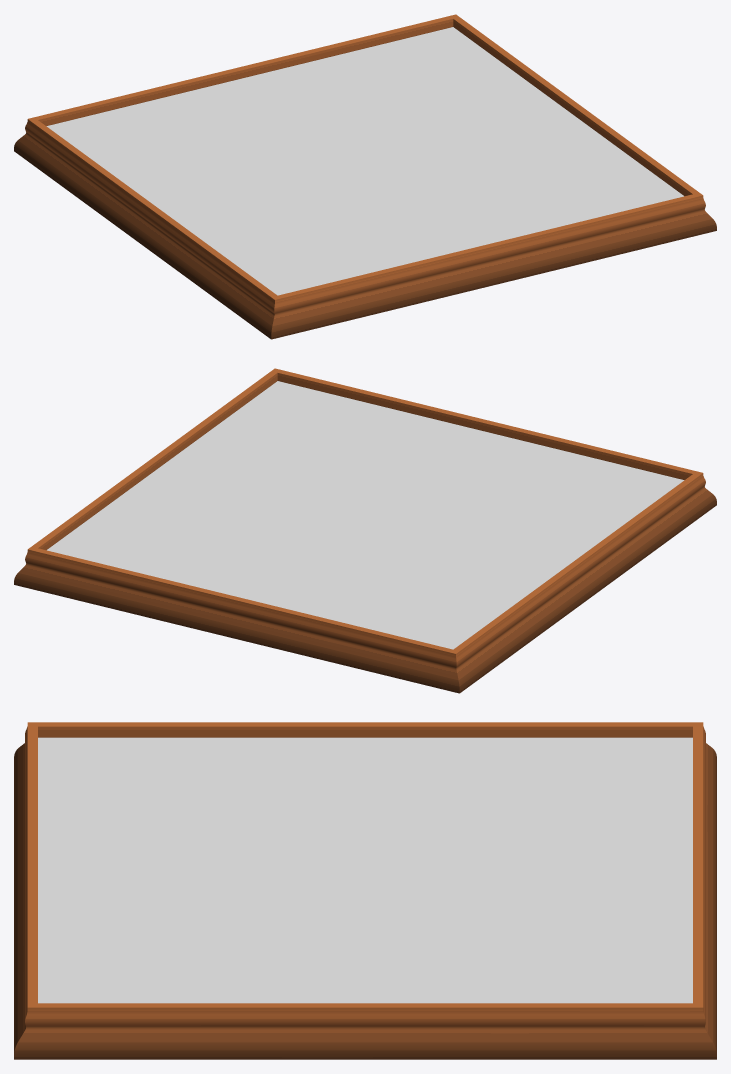
File: small-borders.fbx
3 renders of one model, top to bottom at view 1: azimuth 30°, elevation 25°; view 2: azimuth 150°, elevation 25°; view 3: azimuth 270°, elevation 25°, orthographic. The views are drawn at different scales.
Parts seen in each view (by area): view 1: SmallBorders; view 2: SmallBorders; view 3: SmallBorders.
Boxes of the visible parts, x1=… form: SmallBorders: x1=14, y1=14, x2=716, y2=339; SmallBorders: x1=14, y1=368, x2=716, y2=693; SmallBorders: x1=14, y1=722, x2=716, y2=1059.
Bounding box in the file's own units: 3121 × 227 × 3121.
